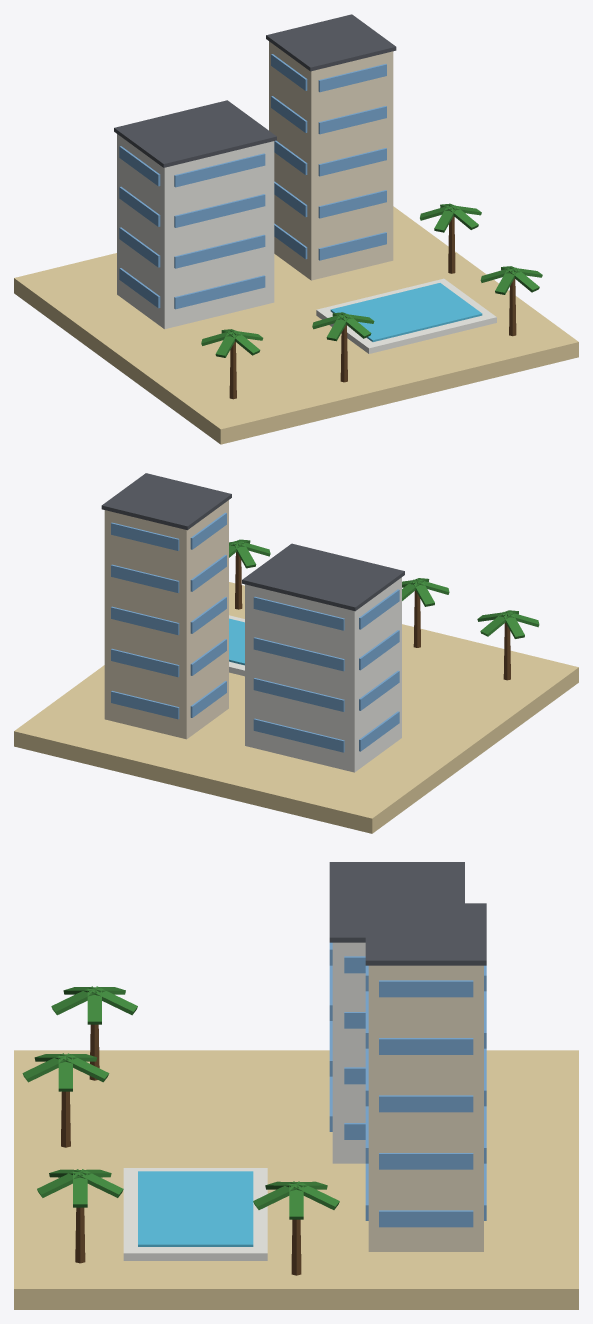
Rendered from tourism_rent_3.glb.
3 views of the same model, one above another, from view 1: azimuth 30°, elevation 25°; view 2: azimuth 150°, elevation 25°; view 3: azimuth 270°, elevation 25° (orthographic). The views are drawn at different scales.
Visible parts, largest first — view 1: tourism_rent_3; view 2: tourism_rent_3; view 3: tourism_rent_3.
Part boxes in pixels (x1=…): tourism_rent_3: x1=14, y1=14, x2=578, y2=444; tourism_rent_3: x1=14, y1=473, x2=578, y2=833; tourism_rent_3: x1=14, y1=862, x2=578, y2=1309.
Bounding box in the file's own units: 1.98 × 1.2 × 1.96.
